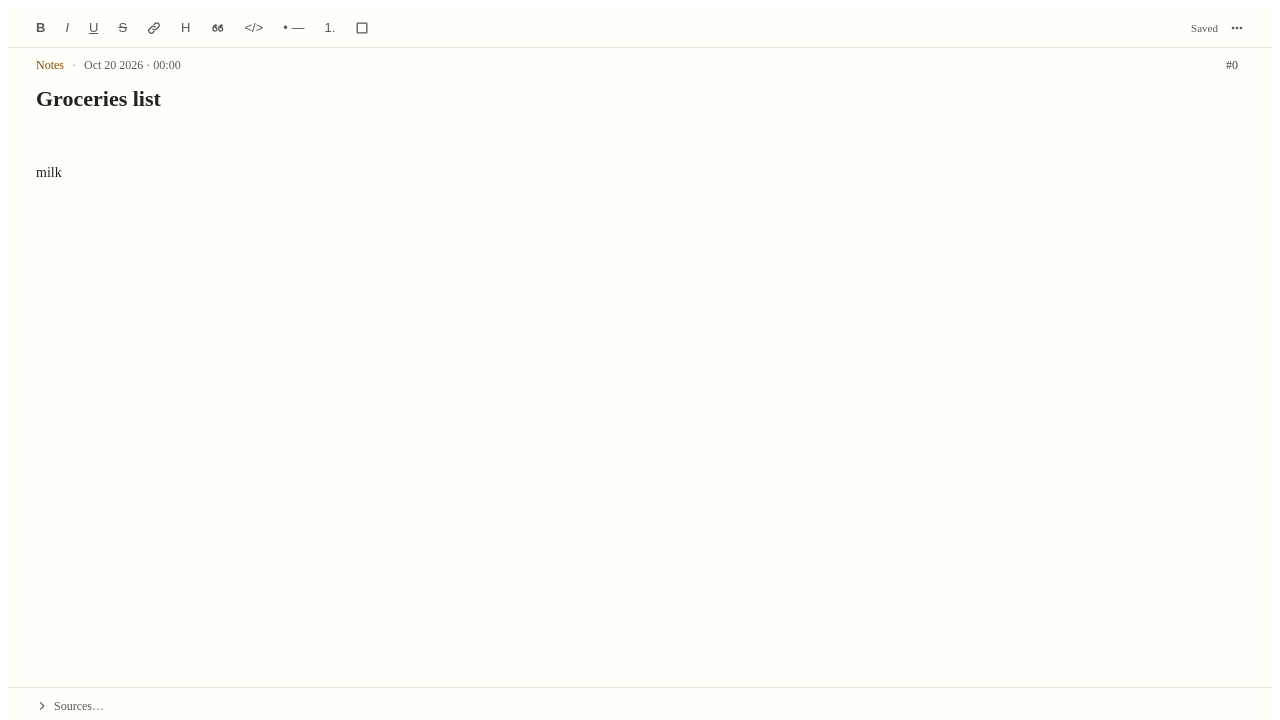
NoteEditor toolbar › ⋯ Show graph opens the dialog its toolbar button did
Click the button named "Note actions" at (1237, 28), box 1222,16 -> 1252,38
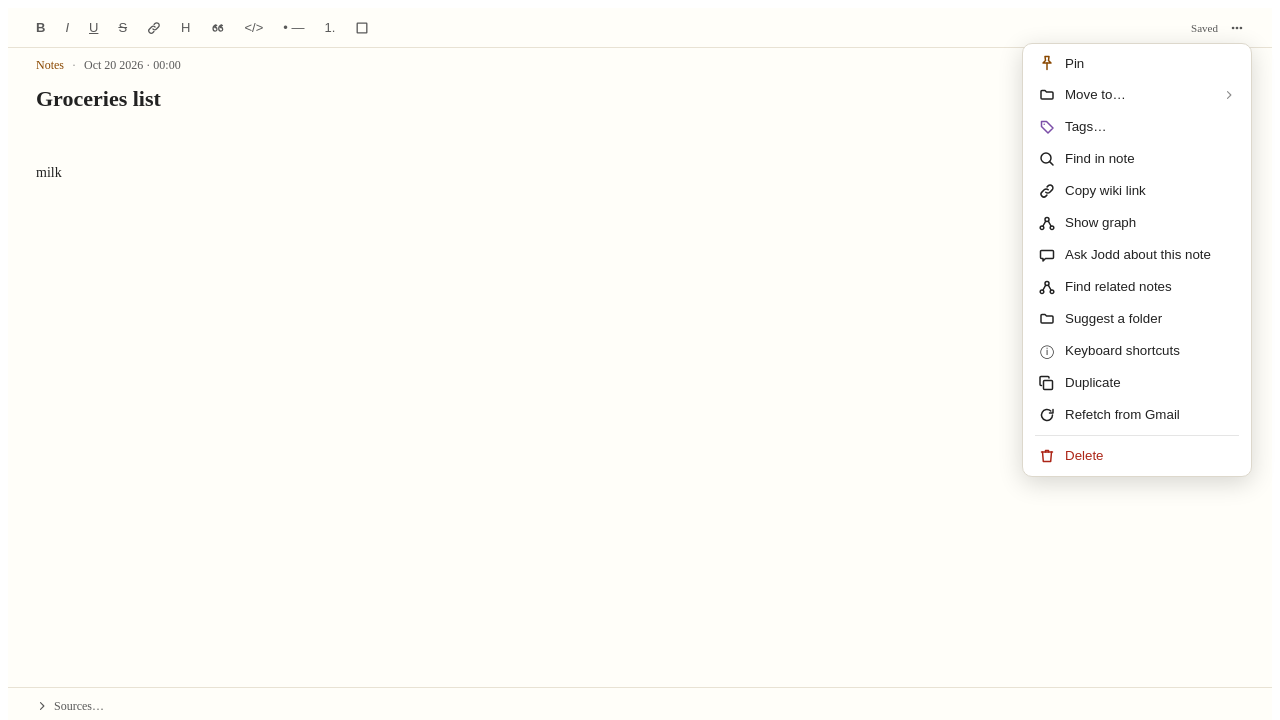
Now the menu item "Show graph" is shown
Click the menu item "Show graph" at (1137, 223), box 1027,207 -> 1247,239
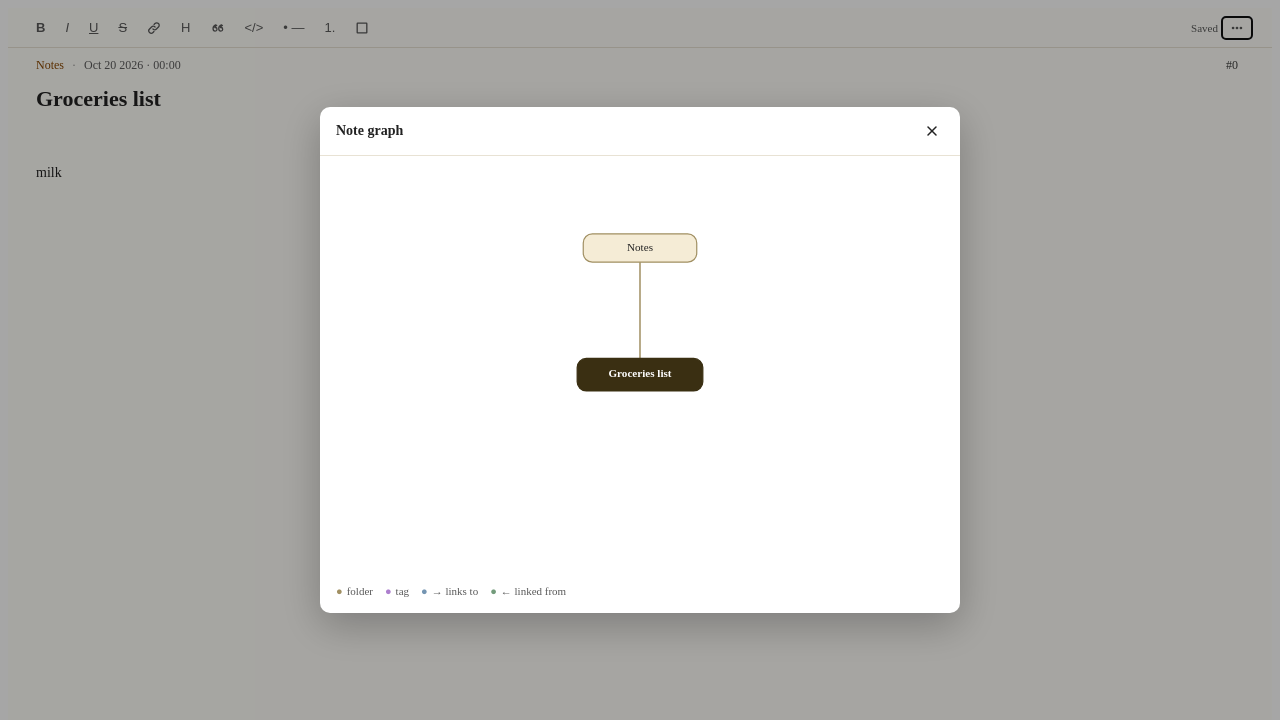
Now the heading "Note graph" is shown, box 336,123 -> 403,138
Now the menu with test id "note-more-menu" is gone
